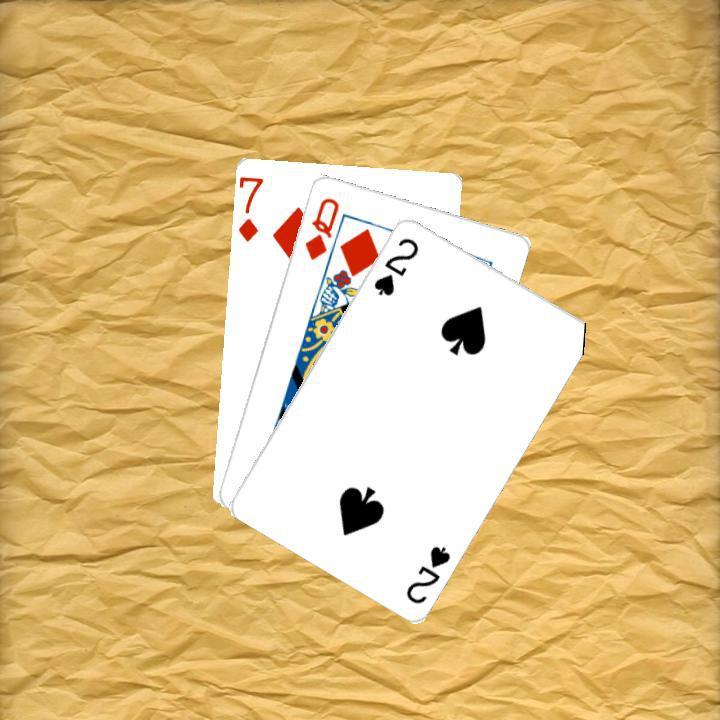2: (369, 232, 421, 298), (401, 540, 453, 606)
7: (234, 172, 265, 244)
Q: (300, 192, 341, 262)
